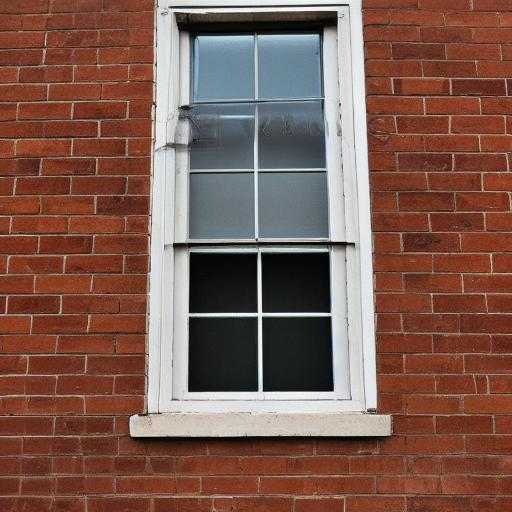Window: (125, 0, 397, 440)
